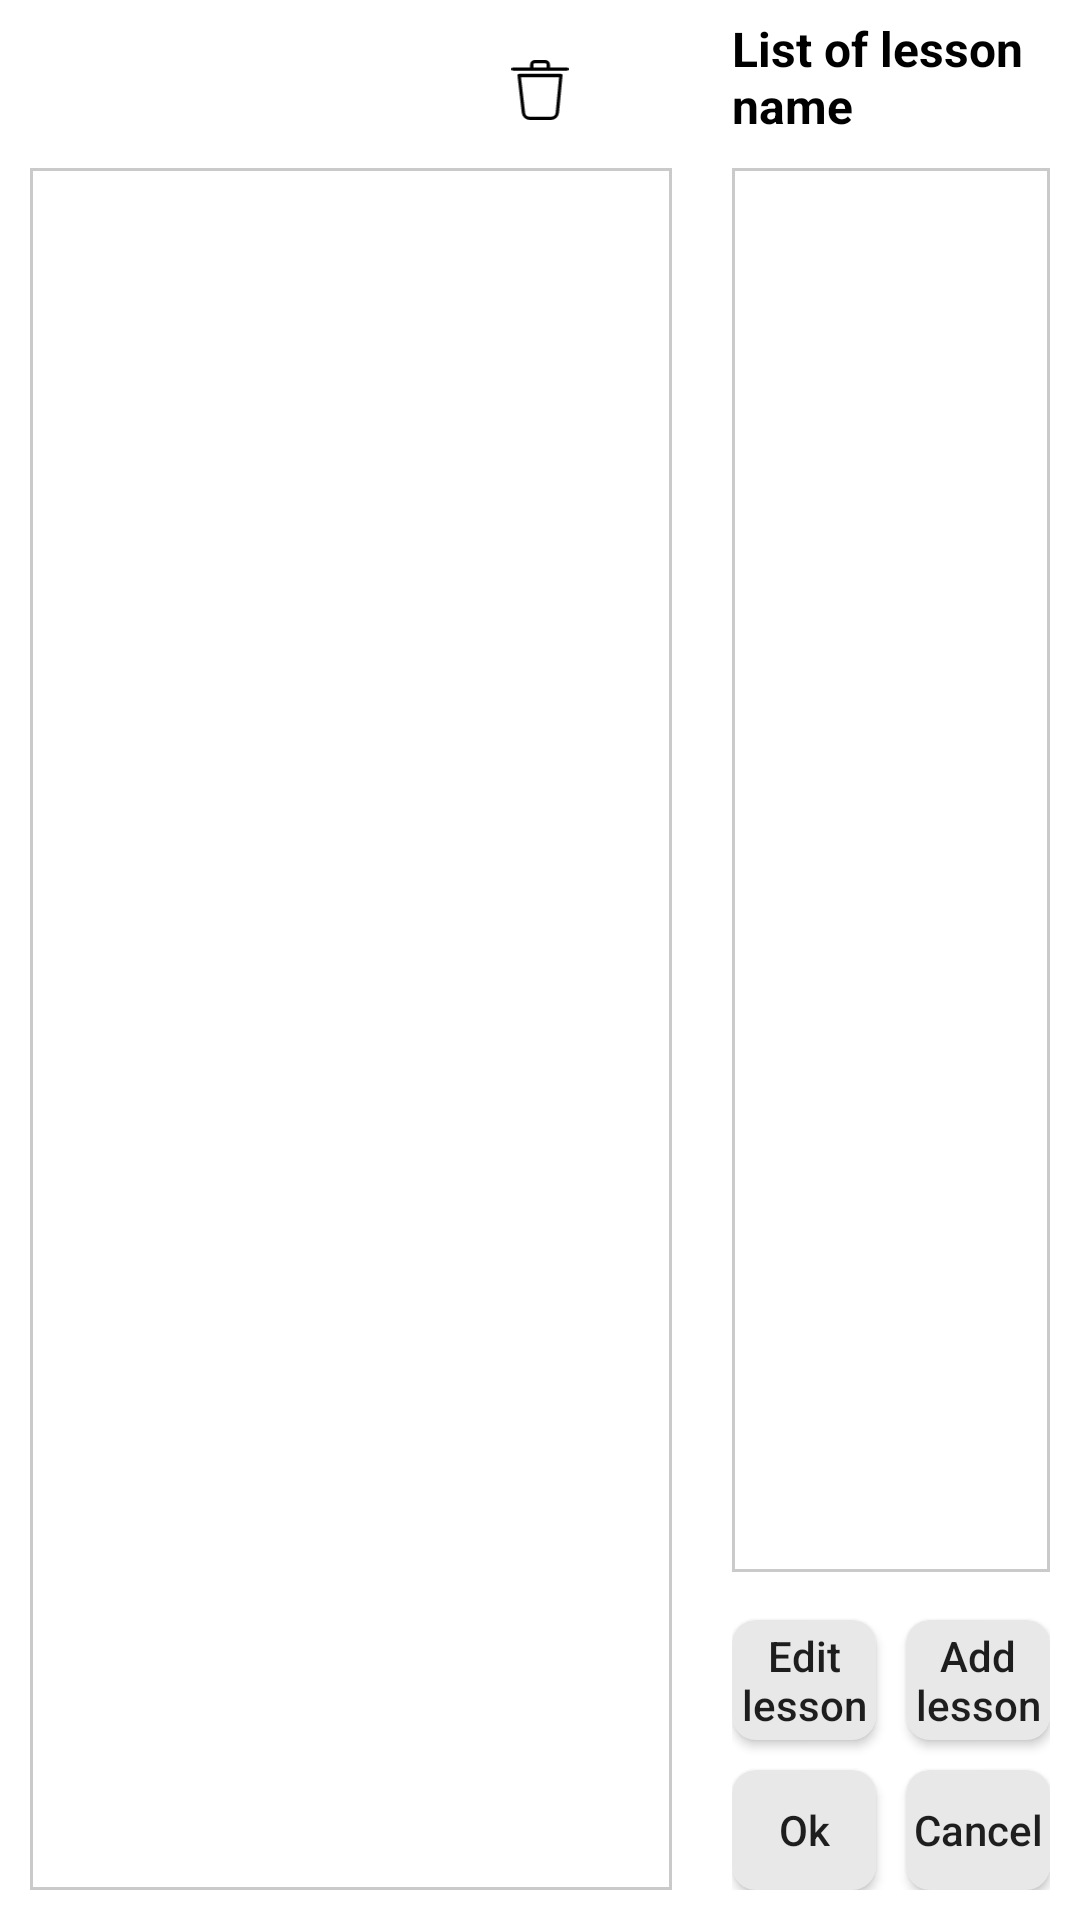

Named icons in this screenshot (1080px x 1920px) and their centers, [x,y]:
trash close: [540,90]
